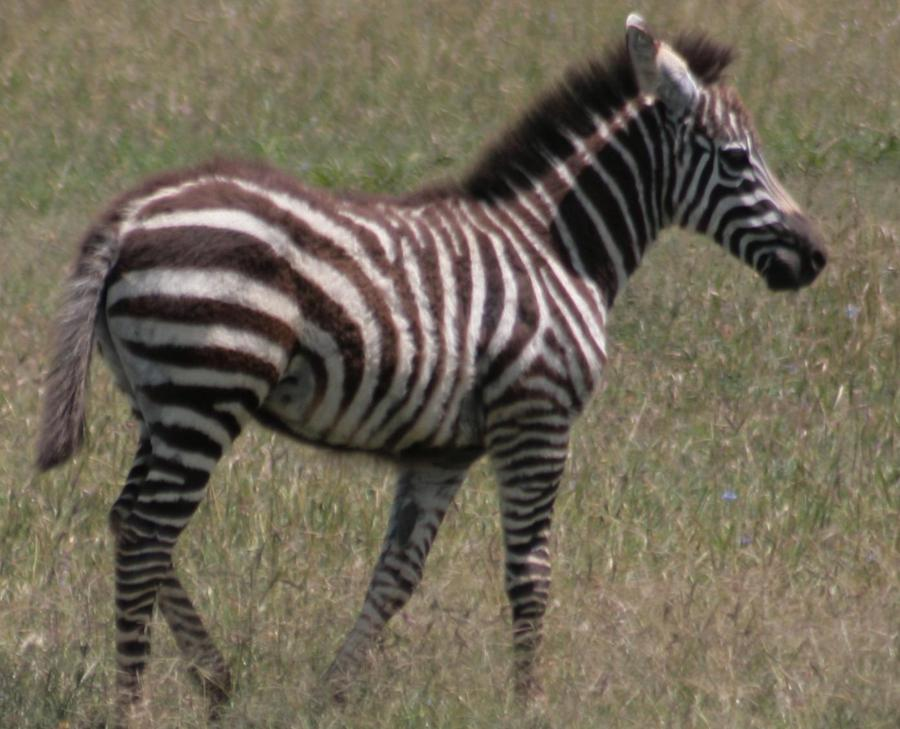zebra_plains: (99, 136, 629, 480)
